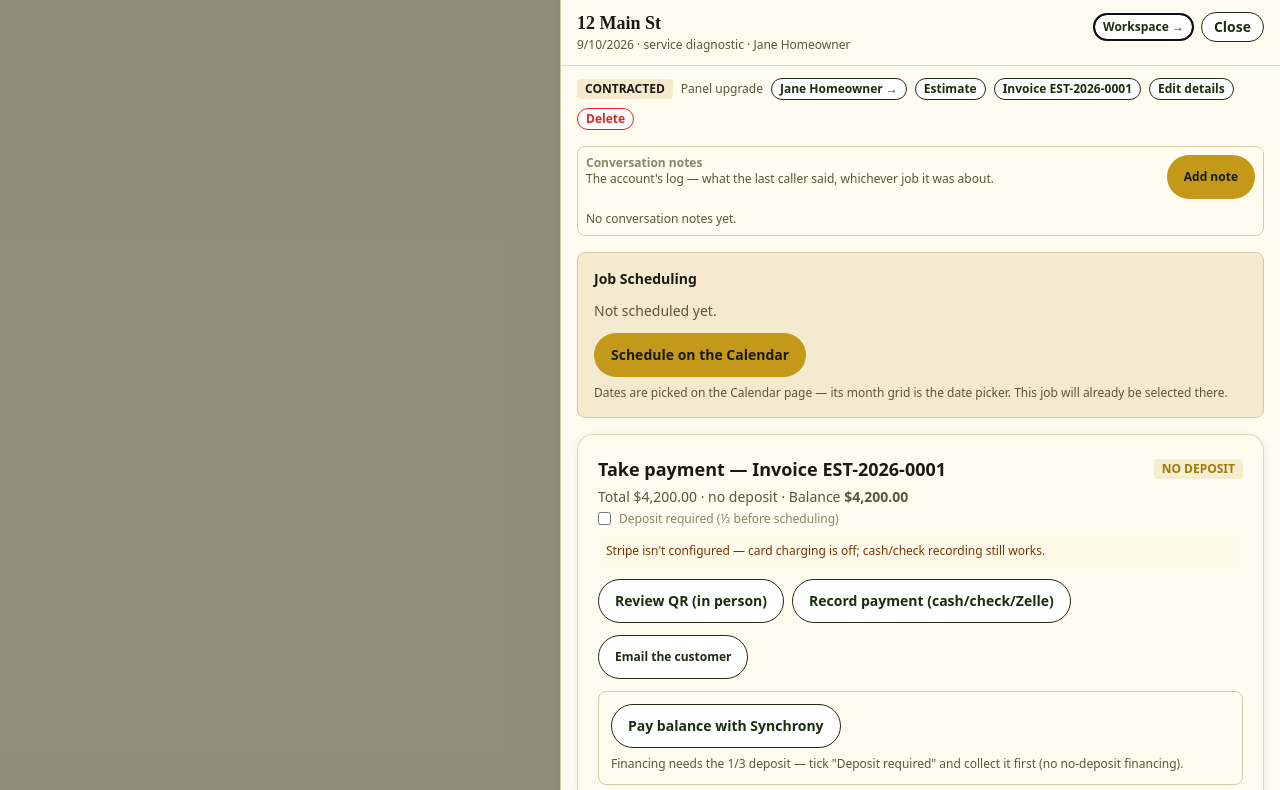
JobDrawer › a job WITH an invoice shows exactly one email control, 'Email the customer', and no separate 'Send email'
The image size is (1280, 790).
Click the button "Email the customer" at (673, 656), box [598,634,748,678]
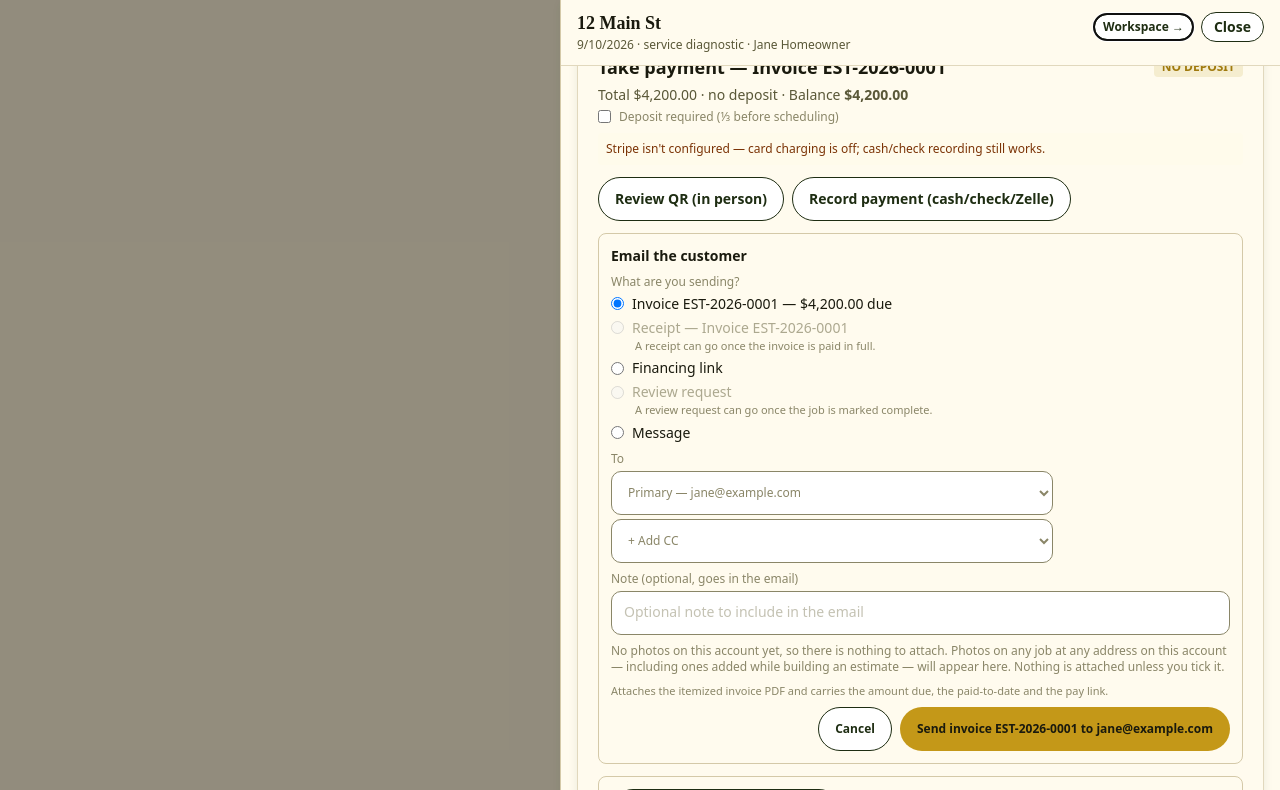
Result: the radio button labelled "Invoice EST-2026-0001 — $4,200.00 due" is shown at [611,297,624,310]
Result: the radio button labelled "Financing link" is shown at [611,362,624,374]
Result: the radio button labelled "Review request" is shown at [611,386,624,398]
